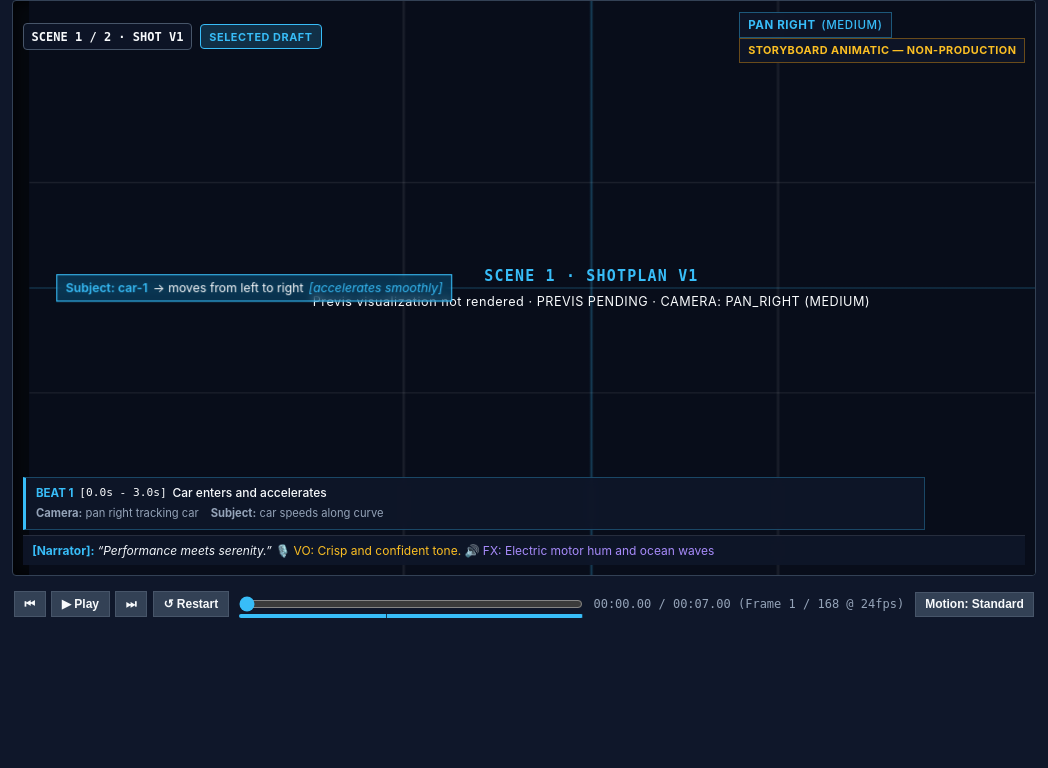
Scenario: CampaignAnimaticPlayer Component › navigates next and previous shots using step buttons
Step 1. Click the button with test id "animatic-next-shot" → point(131, 604), box [115, 591, 147, 617]
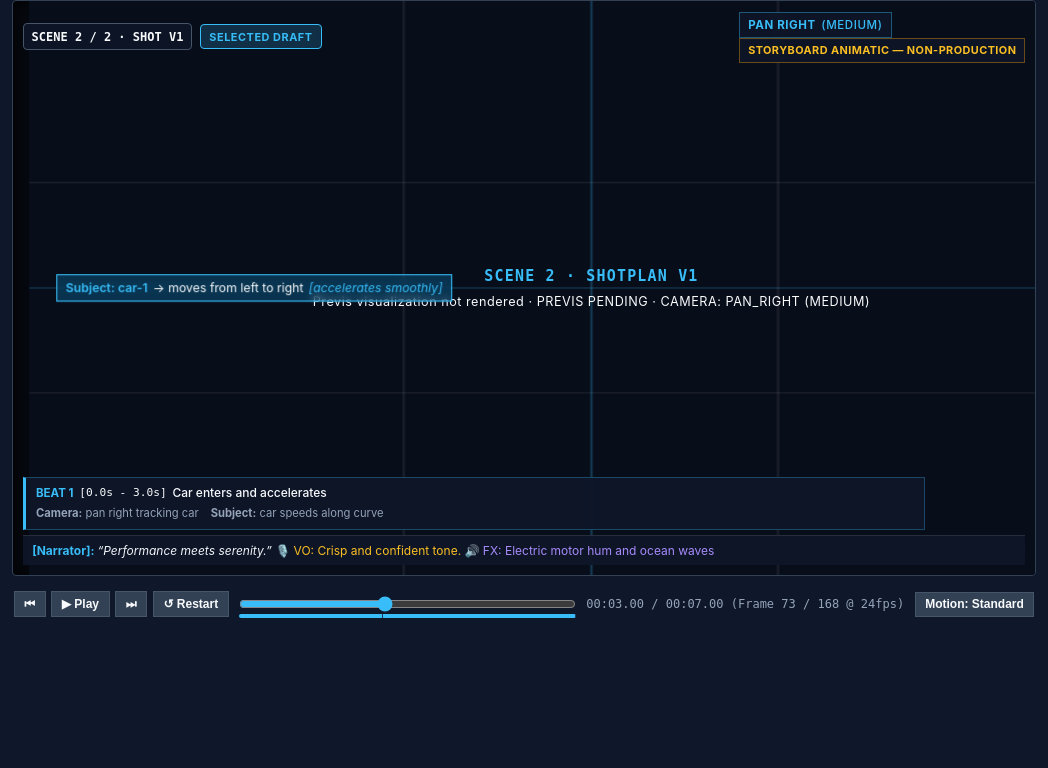
Result: the text with test id "animatic-scene-ordinal" shows "SCENE 2 / 2" at [23, 24, 192, 50]
Result: the element with test id "animatic-time-display" shows "00:03.00 / 00:07.00" at [586, 595, 904, 613]
Step 2. Click the button with test id "animatic-prev-shot" → point(30, 604), box [14, 591, 46, 617]
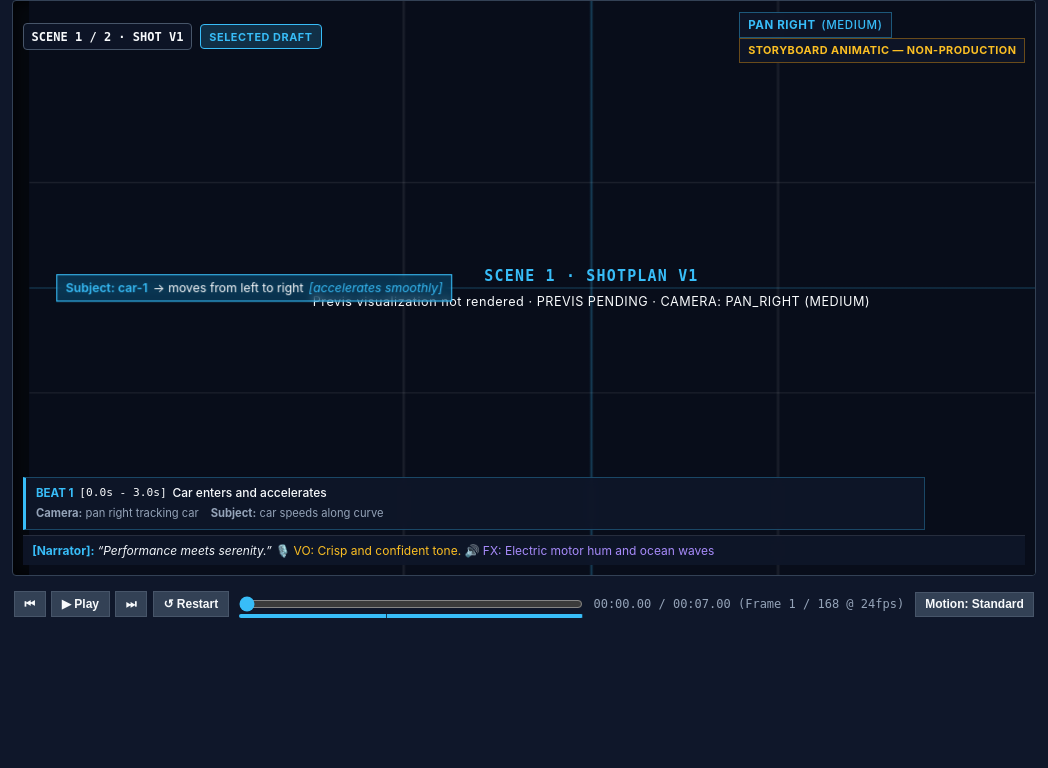
Result: the text with test id "animatic-scene-ordinal" shows "SCENE 1 / 2" at [23, 24, 192, 50]
Result: the element with test id "animatic-time-display" shows "00:00.00 / 00:07.00" at [593, 595, 904, 613]
